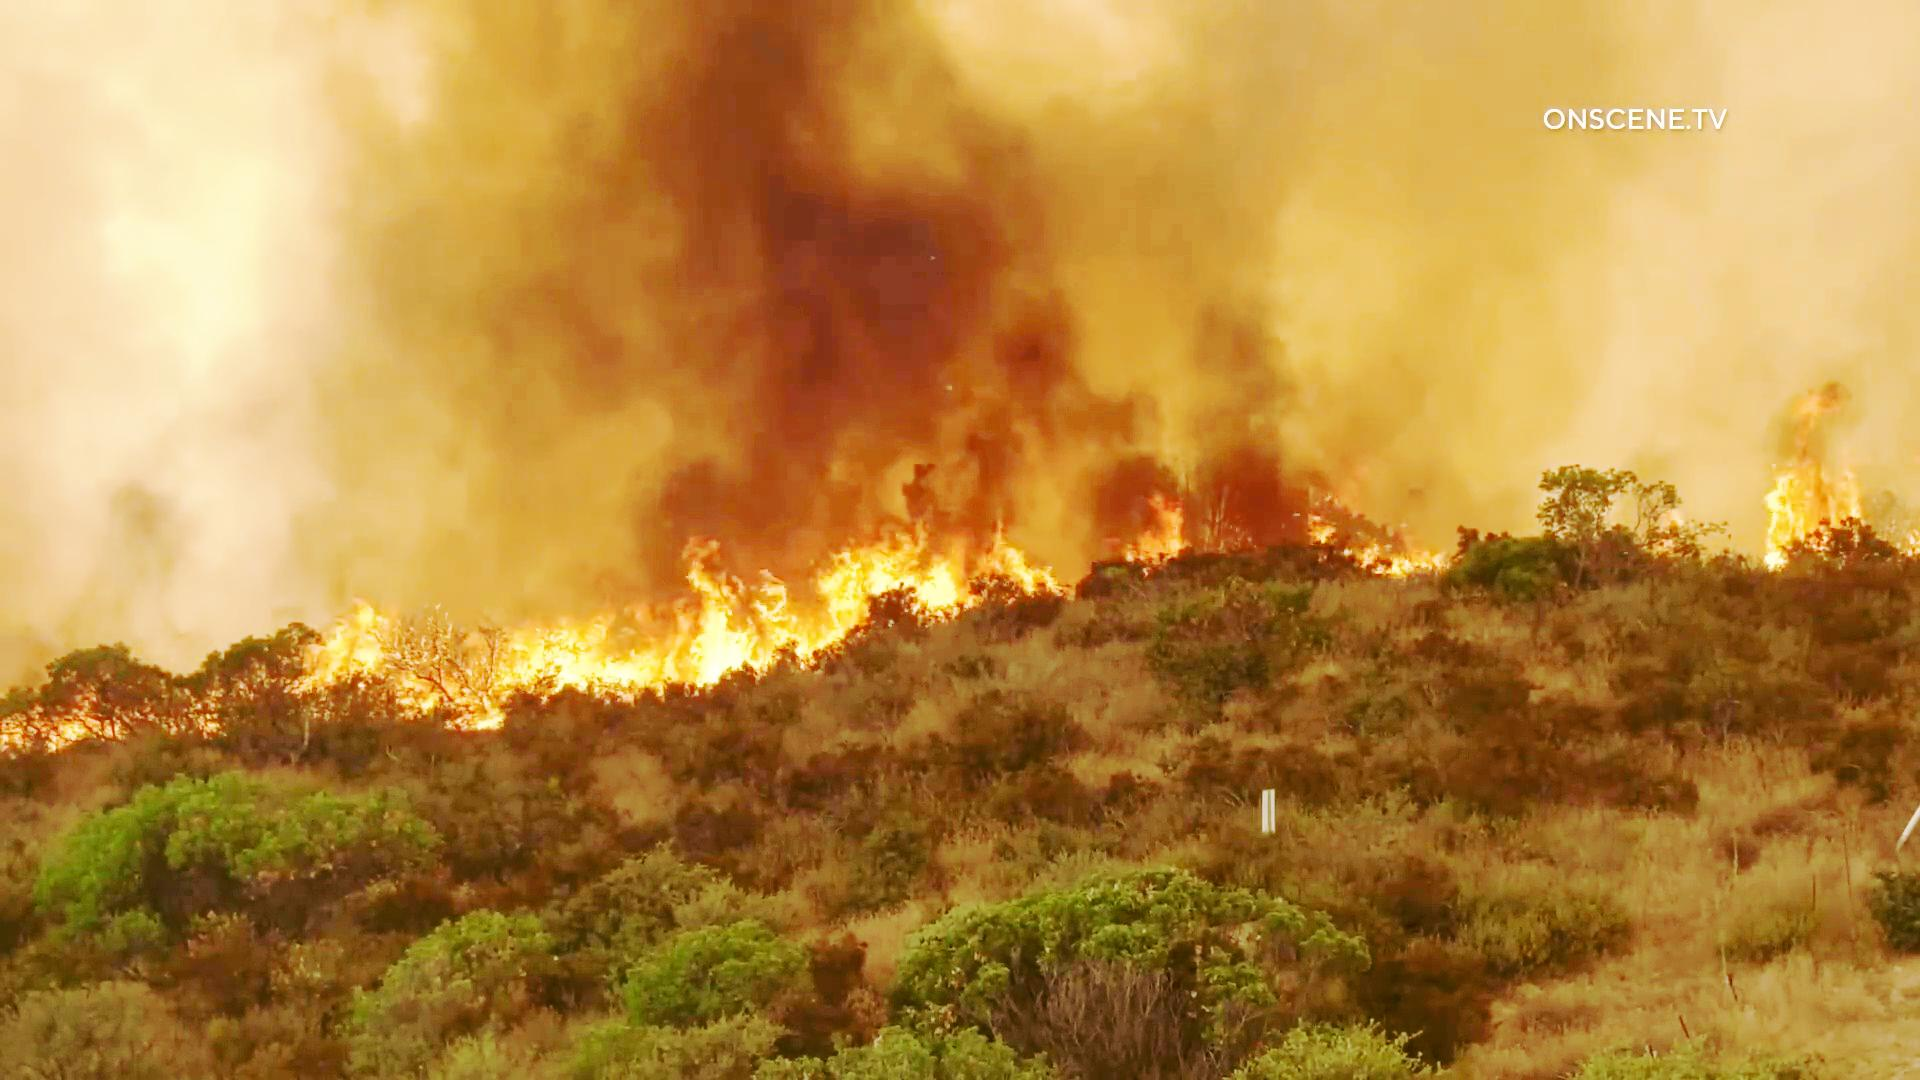fire: (477, 563, 800, 720), (803, 526, 1051, 650), (1760, 353, 1871, 545)
smoke: (345, 0, 1273, 477)
